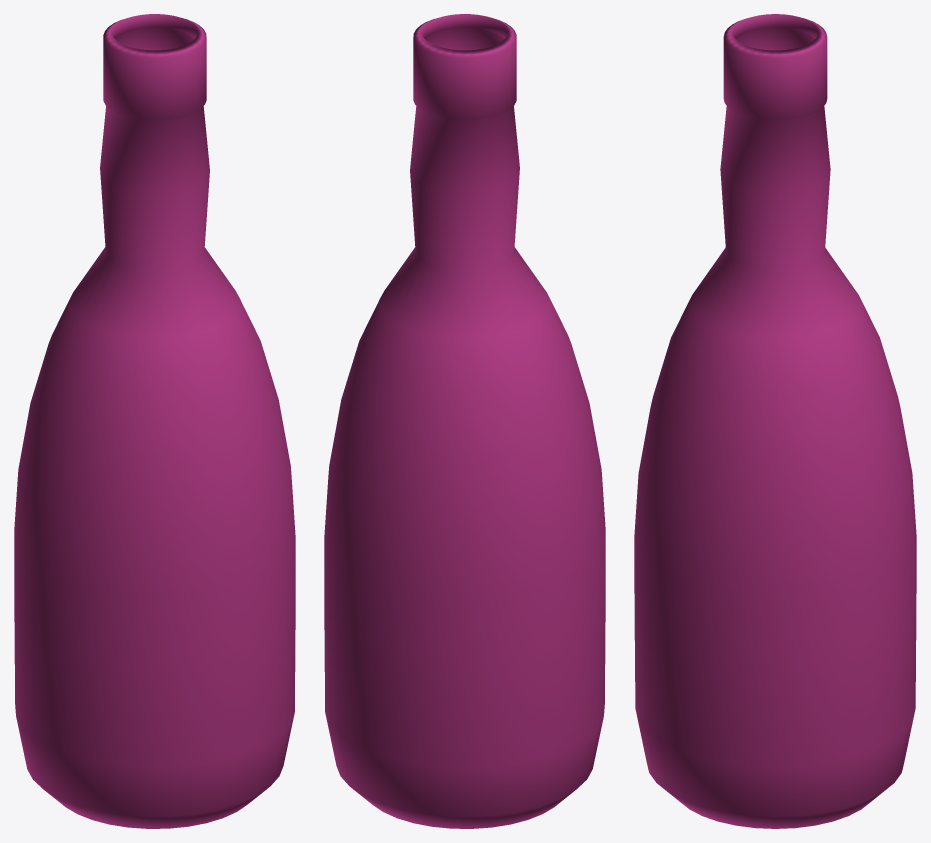
The model's file is SM_BouteilleRose.fbx.
The picture shows the model from 3 angles, left to right: view 1: azimuth 30°, elevation 25°; view 2: azimuth 150°, elevation 25°; view 3: azimuth 270°, elevation 25°; orthographic projection.
Parts seen in each view (by area): view 1: Cylinder.003; view 2: Cylinder.003; view 3: Cylinder.003.
Part boxes in pixels (box(x1,y1,x2,y2)): Cylinder.003: box(14, 14, 295, 828); Cylinder.003: box(324, 14, 605, 828); Cylinder.003: box(634, 14, 916, 828).
Bounding box in the file's own units: 14.87 × 14.87 × 43.77.
